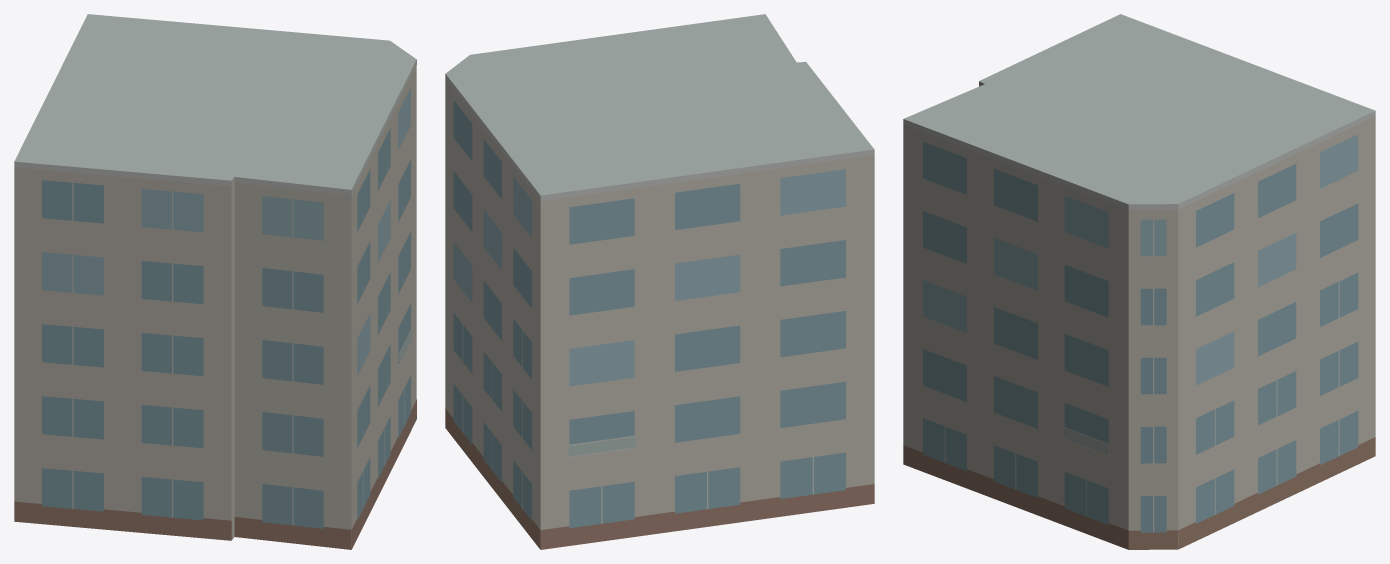
Rendered from survey-upis-32523462.glb.
3 renders of one model, left to right at view 1: azimuth 30°, elevation 25°; view 2: azimuth 150°, elevation 25°; view 3: azimuth 270°, elevation 25°, orthographic. The views are drawn at different scales.
Visible parts, largest first — view 1: survey-upis-32523462.tmp; view 2: survey-upis-32523462.tmp; view 3: survey-upis-32523462.tmp.
Boxes of the visible parts, box(x1,y1,x2,y2) form: survey-upis-32523462.tmp: box(14, 14, 416, 549); survey-upis-32523462.tmp: box(445, 14, 874, 549); survey-upis-32523462.tmp: box(903, 14, 1375, 549).
Size of the model in its own units: 18.04 by 15.25 by 18.91.
